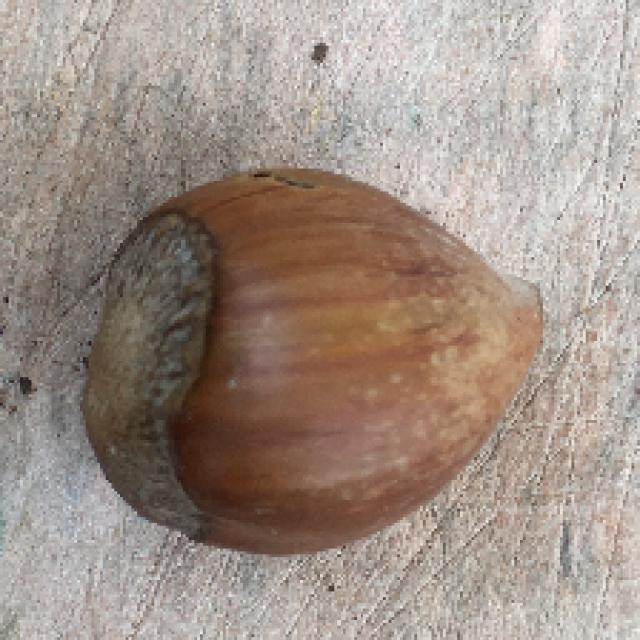damagedHazelnut: (64, 162, 554, 562)
